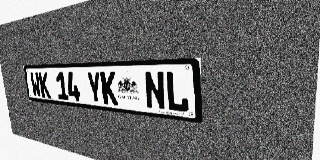1: (55, 72, 69, 100)
4: (66, 72, 81, 101)
K: (100, 71, 118, 105), (38, 72, 51, 98)
L: (165, 71, 189, 113)
N: (144, 71, 166, 110)
W: (30, 72, 42, 97)
Y: (86, 72, 103, 104)
